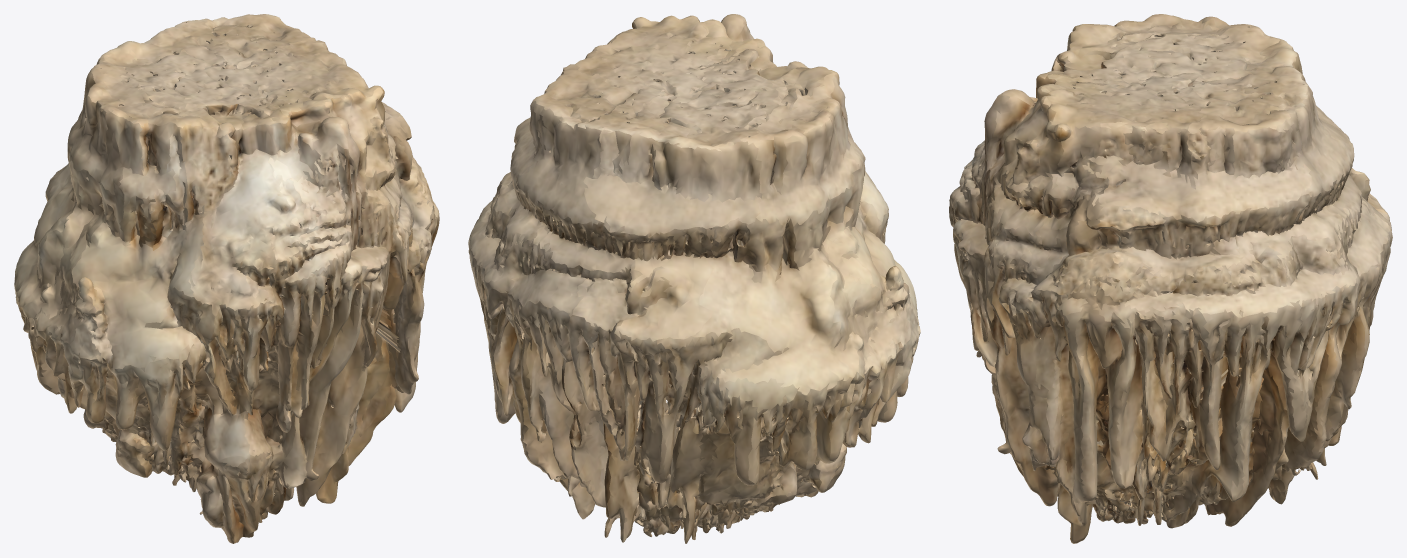
The model's file is cave-flowstone-v12.glb.
3 renders of one model, left to right at view 1: azimuth 30°, elevation 25°; view 2: azimuth 150°, elevation 25°; view 3: azimuth 270°, elevation 25°, orthographic. The views are drawn at different scales.
Parts seen in each view (by area): view 1: geometry_0; view 2: geometry_0; view 3: geometry_0.
Part boxes in pixels (x1,y1,x2,y2): geometry_0: [14, 14, 439, 543]; geometry_0: [468, 14, 920, 543]; geometry_0: [949, 14, 1392, 543].
Size of the model in its own units: 0.3734 by 0.42 by 0.377.
Materials: 1 (1 with a texture image).
